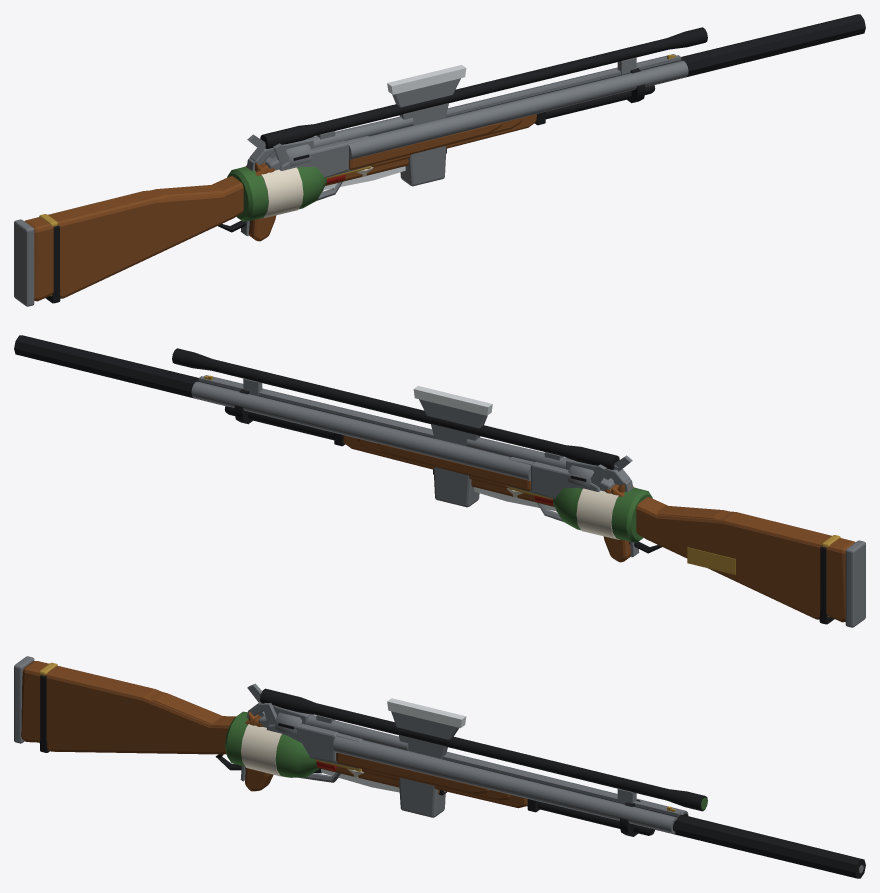
The model's file is weapons.glb.
3 views of the same model, one above another, from view 1: azimuth 30°, elevation 25°; view 2: azimuth 150°, elevation 25°; view 3: azimuth 330°, elevation 25° (orthographic).
Parts seen in each view (by area): view 1: shotgun.body, long_rifle.body, hatchet.body, lamp_oil.body, lever_rifle.body, revolver.body; view 2: shotgun.body, long_rifle.body, hatchet.body, lamp_oil.body, lever_rifle.body, revolver.body; view 3: shotgun.body, long_rifle.body, hatchet.body, lamp_oil.body, lever_rifle.body, revolver.body, knife.body.
Part boxes in pixels (box(x1,y1,x2,y2)): shotgun.body: box(45, 54, 688, 303); long_rifle.body: box(14, 14, 865, 306); hatchet.body: box(325, 65, 466, 186); lamp_oil.body: box(227, 165, 373, 221); lever_rifle.body: box(39, 55, 675, 296); revolver.body: box(240, 116, 413, 241); shotgun.body: box(191, 375, 834, 624); long_rifle.body: box(14, 335, 865, 627); hatchet.body: box(413, 386, 554, 507); lamp_oil.body: box(506, 486, 652, 542); lever_rifle.body: box(204, 376, 840, 617); revolver.body: box(466, 437, 639, 562); shotgun.body: box(40, 675, 688, 833); long_rifle.body: box(14, 656, 865, 878); hatchet.body: box(317, 698, 466, 817); lamp_oil.body: box(225, 711, 364, 777); lever_rifle.body: box(39, 662, 675, 836); revolver.body: box(240, 683, 408, 791); knife.body: box(321, 769, 445, 792).
Bounding box in the file's own units: 1.4 × 0.208 × 0.0816.
